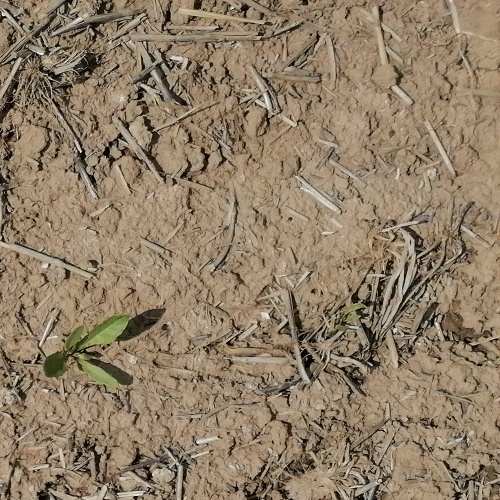beet: (41, 314, 129, 393)
